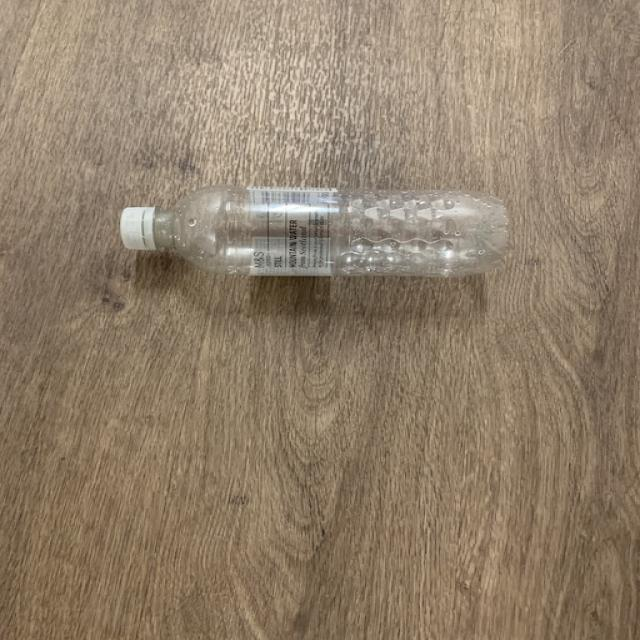Waste: (121, 186, 509, 276)
